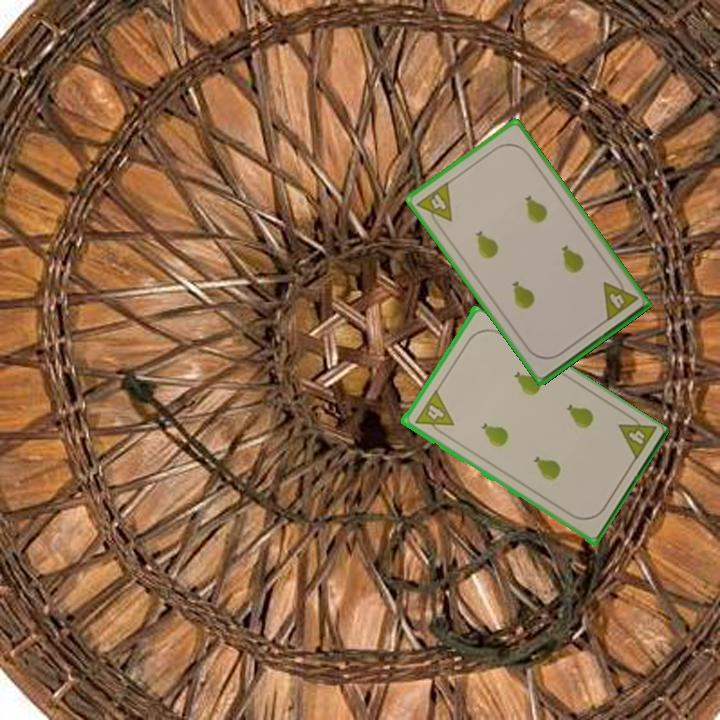4p: (614, 409, 659, 464), (411, 387, 456, 439), (413, 178, 455, 232), (599, 272, 641, 324)
